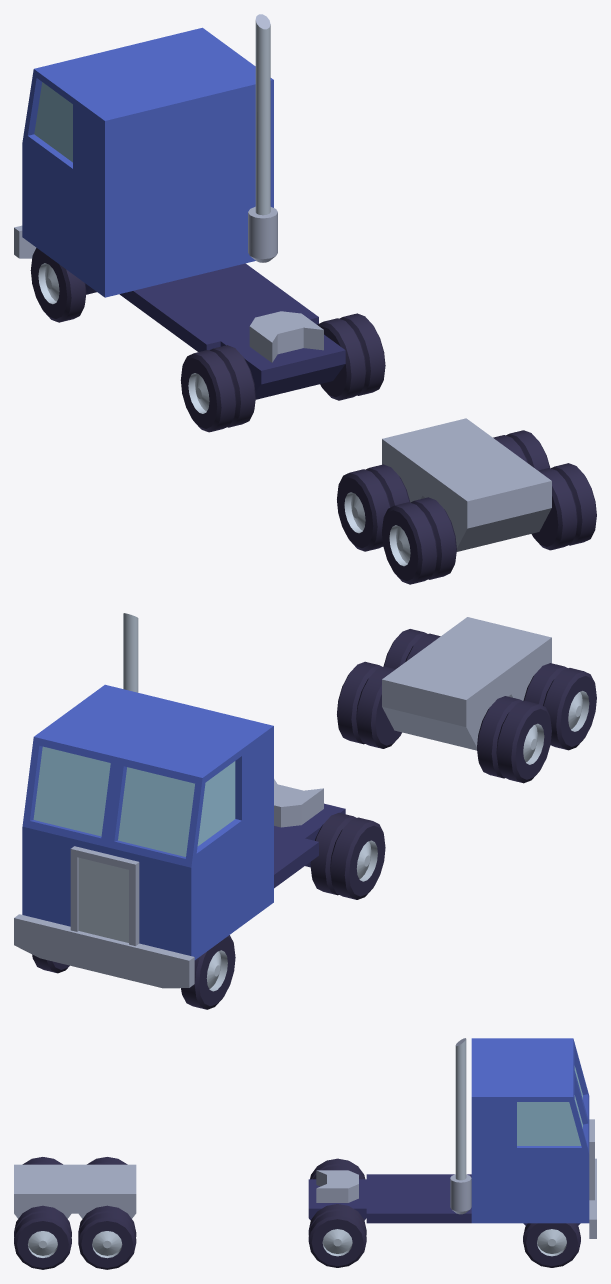
File: Truck_N_Roll.fbx
The picture shows the model from 3 angles, top to bottom: view 1: azimuth 30°, elevation 25°; view 2: azimuth 150°, elevation 25°; view 3: azimuth 270°, elevation 25°; orthographic projection. The views are drawn at different scales.
Parts seen in each view (by area): view 1: Cab, TrailerSkeleton, CabSkeleton, WheelB2, WheelB, Smoker, WheelB1, WheelB005, WheelB003, WheelS, Hitch, WheelB004; view 2: Cab, TrailerSkeleton, CabBumper, WheelB1, WheelB2, WheelB, WheelB004, CabSkeleton, WheelS, Hitch, Smoker, WheelB003; view 3: Cab, TrailerSkeleton, CabSkeleton, WheelB005, WheelB004, WheelB003, Smoker, WheelS001, Hitch, WheelB2, CabBumper.
Boxes of the visible parts, left/top/right/bottom form: Cab: left=22, top=27, right=273, bottom=297; TrailerSkeleton: left=382, top=418, right=551, bottom=551; CabSkeleton: left=85, top=263, right=345, bottom=399; WheelB2: left=180, top=345, right=255, bottom=432; WheelB: left=382, top=497, right=456, bottom=584; Smoker: left=248, top=14, right=277, bottom=262; WheelB1: left=337, top=464, right=410, bottom=551; WheelB005: left=317, top=313, right=385, bottom=400; WheelB003: left=531, top=463, right=596, bottom=550; WheelS: left=30, top=248, right=86, bottom=322; Hitch: left=249, top=311, right=323, bottom=362; WheelB004: left=493, top=430, right=550, bottom=470; Cab: left=22, top=684, right=273, bottom=959; TrailerSkeleton: left=382, top=617, right=551, bottom=750; CabBumper: left=14, top=914, right=194, bottom=988; WheelB1: left=477, top=696, right=551, bottom=783; WheelB2: left=310, top=812, right=385, bottom=899; WheelB: left=523, top=663, right=596, bottom=750; WheelB004: left=337, top=661, right=401, bottom=748; CabSkeleton: left=274, top=803, right=345, bottom=888; WheelS: left=181, top=935, right=235, bottom=1009; Hitch: left=274, top=779, right=323, bottom=827; Smoker: left=123, top=613, right=138, bottom=692; WheelB003: left=383, top=629, right=440, bottom=668; Cab: left=471, top=1038, right=594, bottom=1223; TrailerSkeleton: left=14, top=1164, right=136, bottom=1218; CabSkeleton: left=308, top=1174, right=580, bottom=1225; WheelB005: left=308, top=1204, right=366, bottom=1267; WheelB004: left=78, top=1205, right=136, bottom=1269; WheelB003: left=14, top=1205, right=71, bottom=1269; Smoker: left=450, top=1038, right=471, bottom=1214; WheelS001: left=523, top=1223, right=580, bottom=1267; Hitch: left=316, top=1170, right=358, bottom=1202; WheelB2: left=310, top=1158, right=365, bottom=1179; CabBumper: left=589, top=1158, right=596, bottom=1238.
Size of the model in its own units: 6.88 by 11.53 by 27.2.
